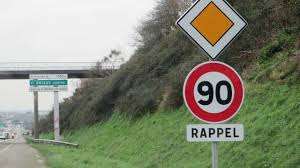Speed_limit_90km: (182, 60, 244, 122)
